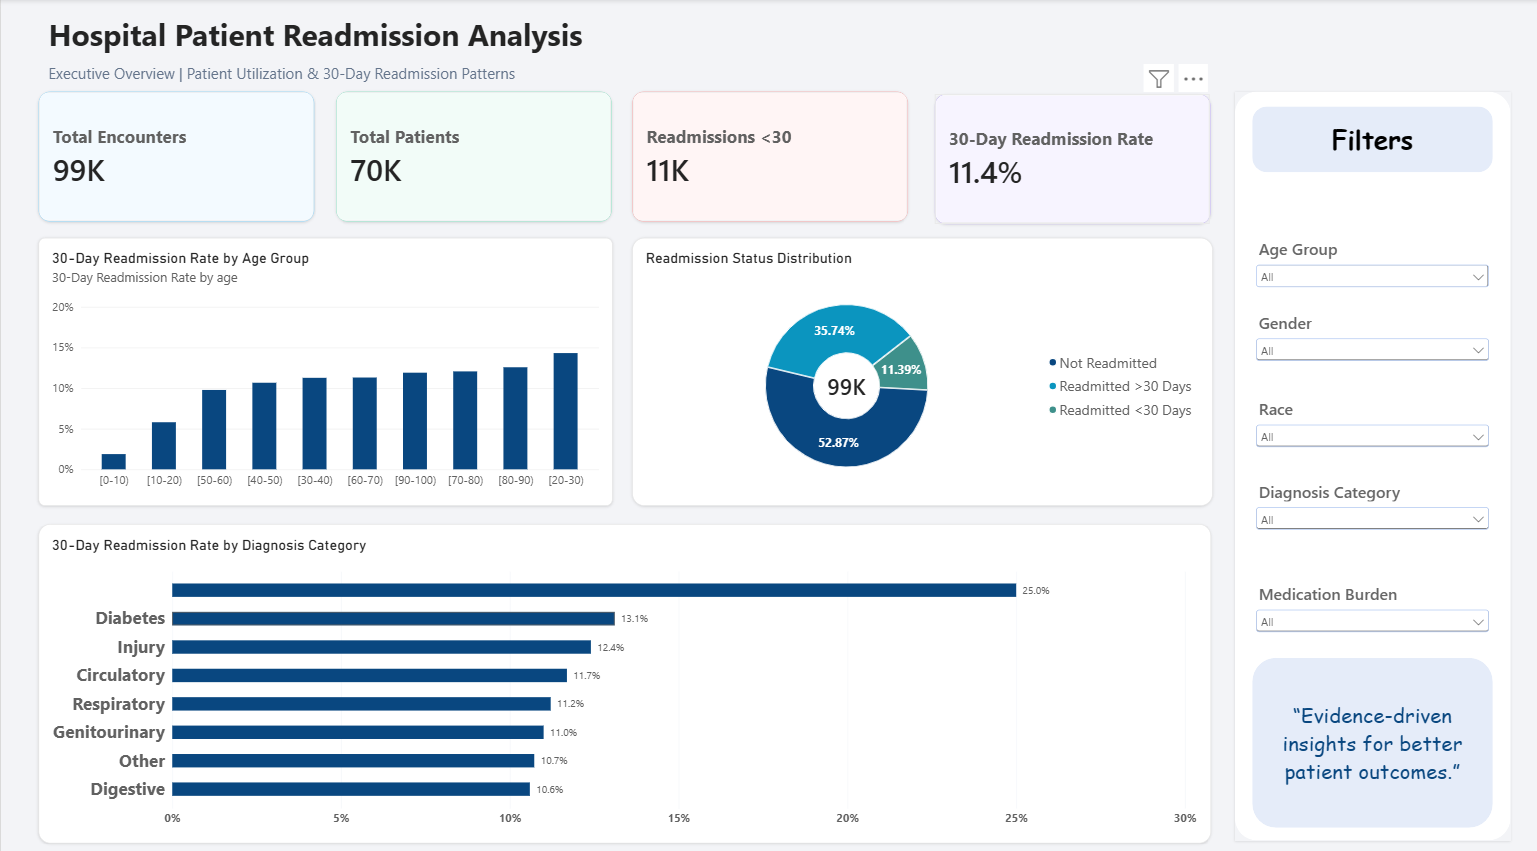

This screenshot's page, from the dashboard's own definition file:
{"tool":"powerbi","page":{"name":"Executive Overview","canvas":[1920,1080],"ordinal":0},"visuals":[{"type":"shape","box":[1538,116,344,934],"z":0},{"type":"cardVisual","fields":{"Data":["df.Total Encounters"]},"box":[46,116,344,162],"z":1000},{"type":"cardVisual","fields":{"Data":["df.Total Patients"]},"box":[418,116,344,162],"z":2000},{"type":"cardVisual","fields":{"Data":["df.30-Day Readmission Rate"]},"box":[1164,118,344,162],"z":3000},{"type":"cardVisual","fields":{"Data":["df.Readmissions <30"]},"box":[788,116,344,162],"z":4000},{"type":"textbox","box":[130,316,250,150],"z":5000},{"type":"textbox","box":[130,531,250,150],"z":6000},{"type":"textbox","box":[130,746,250,150],"z":7000},{"type":"textbox","box":[60,18,686,78],"z":8000},{"type":"clusteredColumnChart","title":"30-Day Readmission Rate by Age Group","fields":{"Category":["df.age"],"Y":["df.30-Day Readmission Rate"]},"box":[46,298,716,334],"z":9000},{"type":"donutChart","title":"Readmission Status Distribution","fields":{"Category":["df.readmission_status"],"Y":["df.Total Encounters"]},"box":[788,298,724,334],"z":10000},{"type":"clusteredBarChart","title":"30-Day Readmission Rate by Diagnosis Category","fields":{"Category":["df.diagnosis_category"],"Y":["df.30-Day Readmission Rate"]},"box":[46,654,1462,398],"z":11000},{"type":"slicer","fields":{"Values":["df.age"]},"box":[1560,298,300,94],"z":12000},{"type":"slicer","fields":{"Values":["df.gender"]},"box":[1560,390,300,108],"z":12001},{"type":"slicer","fields":{"Values":["df.race"]},"box":[1560,498,300,108],"z":12002},{"type":"slicer","fields":{"Values":["df.diagnosis_category"]},"box":[1560,600,300,108],"z":12003},{"type":"slicer","fields":{"Values":["df.medication_burden_tier"]},"box":[1560,728,300,108],"z":12004},{"type":"shape","box":[1560,134,300,82],"z":12005},{"type":"shape","box":[1560,822,300,212],"z":12006},{"type":"textbox","box":[60,80,1112,60],"z":12007}]}

Visuals, with their boxes in screenshot pixels (x1, y1, x2, y2), scaled from the page's 1920x1080 canvas onto the 1537x851 screenshot:
shape: <bbox>1231, 91, 1507, 827</bbox>
cardVisual - df.Total Encounters: <bbox>37, 91, 312, 219</bbox>
cardVisual - df.Total Patients: <bbox>335, 91, 610, 219</bbox>
cardVisual - df.30-Day Readmission Rate: <bbox>932, 93, 1207, 221</bbox>
cardVisual - df.Readmissions <30: <bbox>631, 91, 906, 219</bbox>
textbox: <bbox>104, 249, 304, 367</bbox>
textbox: <bbox>104, 418, 304, 537</bbox>
textbox: <bbox>104, 588, 304, 706</bbox>
textbox: <bbox>48, 14, 597, 76</bbox>
"30-Day Readmission Rate by Age Group" clusteredColumnChart: <bbox>37, 235, 610, 498</bbox>
"Readmission Status Distribution" donutChart: <bbox>631, 235, 1210, 498</bbox>
"30-Day Readmission Rate by Diagnosis Category" clusteredBarChart: <bbox>37, 515, 1207, 829</bbox>
slicer - df.age: <bbox>1249, 235, 1489, 309</bbox>
slicer - df.gender: <bbox>1249, 307, 1489, 392</bbox>
slicer - df.race: <bbox>1249, 392, 1489, 478</bbox>
slicer - df.diagnosis_category: <bbox>1249, 473, 1489, 558</bbox>
slicer - df.medication_burden_tier: <bbox>1249, 574, 1489, 659</bbox>
shape: <bbox>1249, 106, 1489, 170</bbox>
shape: <bbox>1249, 648, 1489, 815</bbox>
textbox: <bbox>48, 63, 938, 110</bbox>
